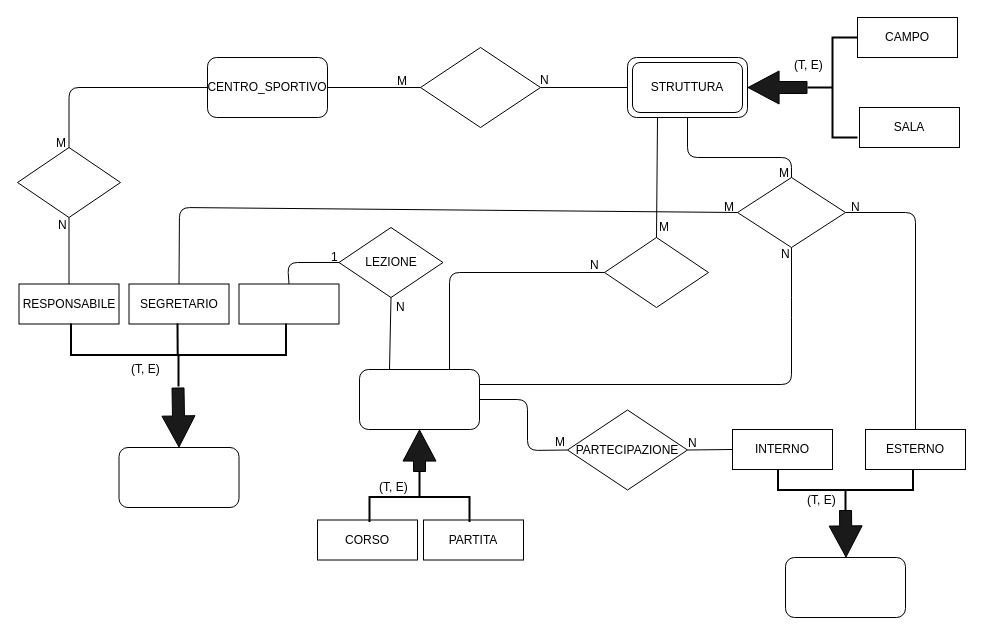
The diagram is 983 pixels wide and 635 high, and some of its shapes have lost their labels. Each missing label, with the box of its shape:
AGENDA: (736, 176, 846, 248)
ATTIVITÀ_SPORTIVA: (358, 368, 480, 430)
CALENDARIO: (604, 236, 708, 308)
DIPENDENTE: (118, 446, 239, 508)
DIRIGENTE: (16, 146, 120, 218)
ISTRUTTORE: (238, 283, 339, 324)
OSPITE: (784, 556, 906, 618)
UBICAZIONE: (420, 46, 540, 128)
